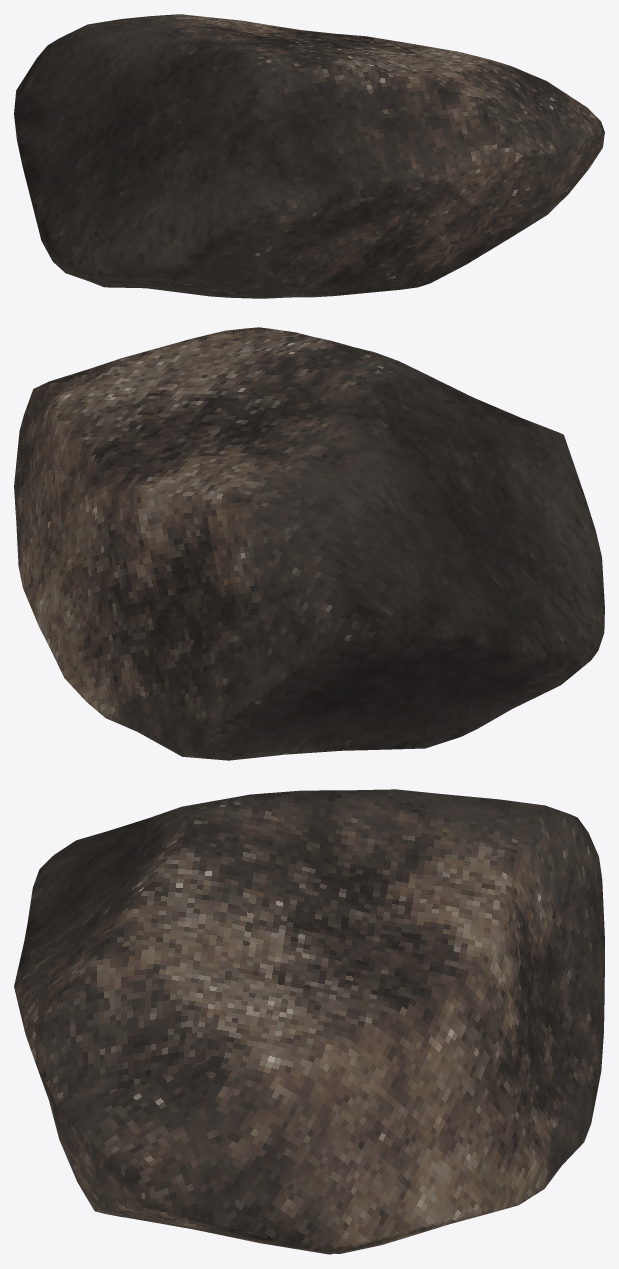
The model's file is SM_RP_Rock_4m_0.glb.
The picture shows the model from 3 angles, top to bottom: view 1: azimuth 30°, elevation 25°; view 2: azimuth 150°, elevation 25°; view 3: azimuth 270°, elevation 25°; orthographic projection. The views are drawn at different scales.
Visible parts, largest first — view 1: SM_RP_Rock_4m_0; view 2: SM_RP_Rock_4m_0; view 3: SM_RP_Rock_4m_0.
Part boxes in pixels (x1,y1,x2,y2): SM_RP_Rock_4m_0: (14, 14, 604, 298); SM_RP_Rock_4m_0: (14, 327, 604, 760); SM_RP_Rock_4m_0: (14, 789, 604, 1254).
Bounding box in the file's own units: 7.44 × 3.73 × 5.49.
Materials: 1 (1 with a texture image).
